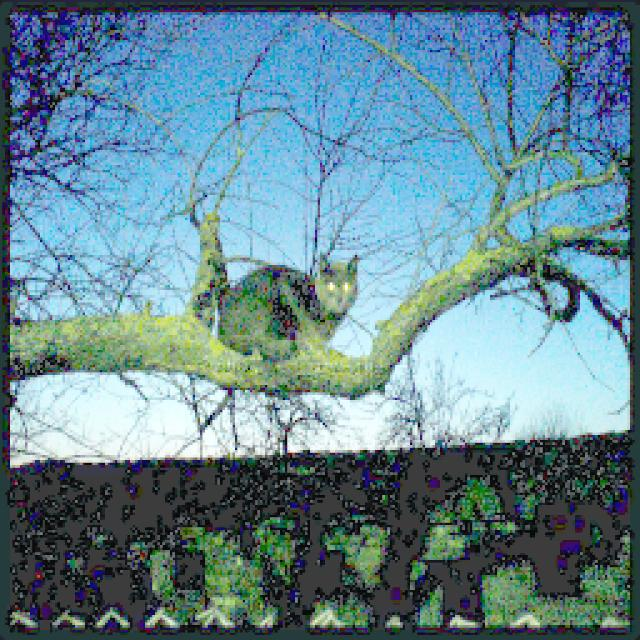cat: (185, 218, 381, 372)
